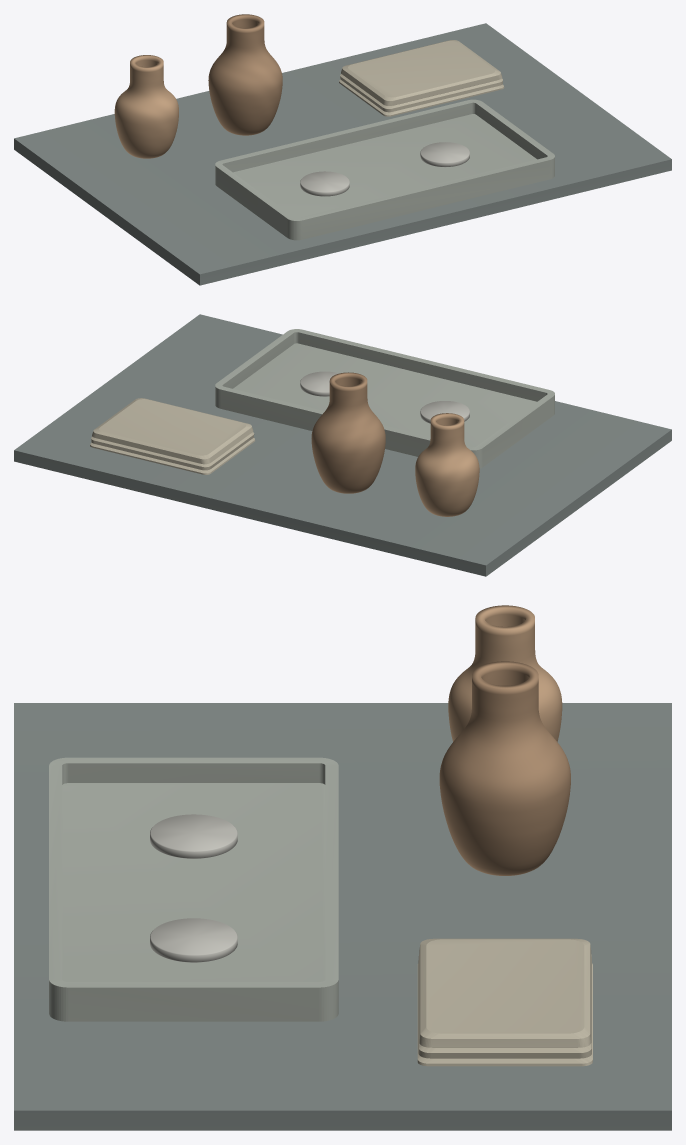
File: samaria-care.glb
3 renders of one model, top to bottom at view 1: azimuth 30°, elevation 25°; view 2: azimuth 150°, elevation 25°; view 3: azimuth 270°, elevation 25°, orthographic. The views are drawn at different scales.
Parts seen in each view (by area): view 1: samaria-care-samaria-modern-neutral-display, samaria-care-samaria-modern-true-bottom-tray, samaria-care-samaria-original-folded-cloth-comparison, samaria-care-samaria-original-ordinary-tall-container, samaria-care-samaria-original-ordinary-small-container, samaria-care-samaria-modern-uninscribed-neutral-metal, samaria-care-samaria-modern-uninscribed-neutral-metal.001; view 2: samaria-care-samaria-modern-neutral-display, samaria-care-samaria-modern-true-bottom-tray, samaria-care-samaria-original-folded-cloth-comparison, samaria-care-samaria-original-ordinary-tall-container, samaria-care-samaria-original-ordinary-small-container, samaria-care-samaria-modern-uninscribed-neutral-metal, samaria-care-samaria-modern-uninscribed-neutral-metal.001; view 3: samaria-care-samaria-modern-neutral-display, samaria-care-samaria-modern-true-bottom-tray, samaria-care-samaria-original-folded-cloth-comparison, samaria-care-samaria-original-ordinary-tall-container, samaria-care-samaria-original-ordinary-small-container, samaria-care-samaria-modern-uninscribed-neutral-metal, samaria-care-samaria-modern-uninscribed-neutral-metal.001.
Boxes of the visible parts, bbox=[...] form: samaria-care-samaria-modern-neutral-display: bbox=[14, 23, 671, 285]; samaria-care-samaria-modern-true-bottom-tray: bbox=[215, 99, 554, 240]; samaria-care-samaria-original-folded-cloth-comparison: bbox=[339, 40, 504, 116]; samaria-care-samaria-original-ordinary-tall-container: bbox=[208, 14, 282, 135]; samaria-care-samaria-original-ordinary-small-container: bbox=[114, 55, 178, 158]; samaria-care-samaria-modern-uninscribed-neutral-metal: bbox=[300, 171, 349, 196]; samaria-care-samaria-modern-uninscribed-neutral-metal.001: bbox=[420, 142, 469, 167]; samaria-care-samaria-modern-neutral-display: bbox=[14, 314, 671, 576]; samaria-care-samaria-modern-true-bottom-tray: bbox=[215, 329, 554, 468]; samaria-care-samaria-original-folded-cloth-comparison: bbox=[90, 398, 255, 474]; samaria-care-samaria-original-ordinary-tall-container: bbox=[311, 372, 385, 493]; samaria-care-samaria-original-ordinary-small-container: bbox=[415, 413, 479, 516]; samaria-care-samaria-modern-uninscribed-neutral-metal: bbox=[420, 401, 469, 423]; samaria-care-samaria-modern-uninscribed-neutral-metal.001: bbox=[300, 371, 338, 396]; samaria-care-samaria-modern-neutral-display: bbox=[14, 703, 671, 1130]; samaria-care-samaria-modern-true-bottom-tray: bbox=[49, 757, 338, 1021]; samaria-care-samaria-original-folded-cloth-comparison: bbox=[417, 938, 592, 1066]; samaria-care-samaria-original-ordinary-tall-container: bbox=[439, 661, 570, 875]; samaria-care-samaria-original-ordinary-small-container: bbox=[448, 605, 562, 741]; samaria-care-samaria-modern-uninscribed-neutral-metal: bbox=[150, 814, 237, 858]; samaria-care-samaria-modern-uninscribed-neutral-metal.001: bbox=[150, 918, 237, 962].
Bounding box in the file's own units: 1.1 × 0.26 × 0.75.
